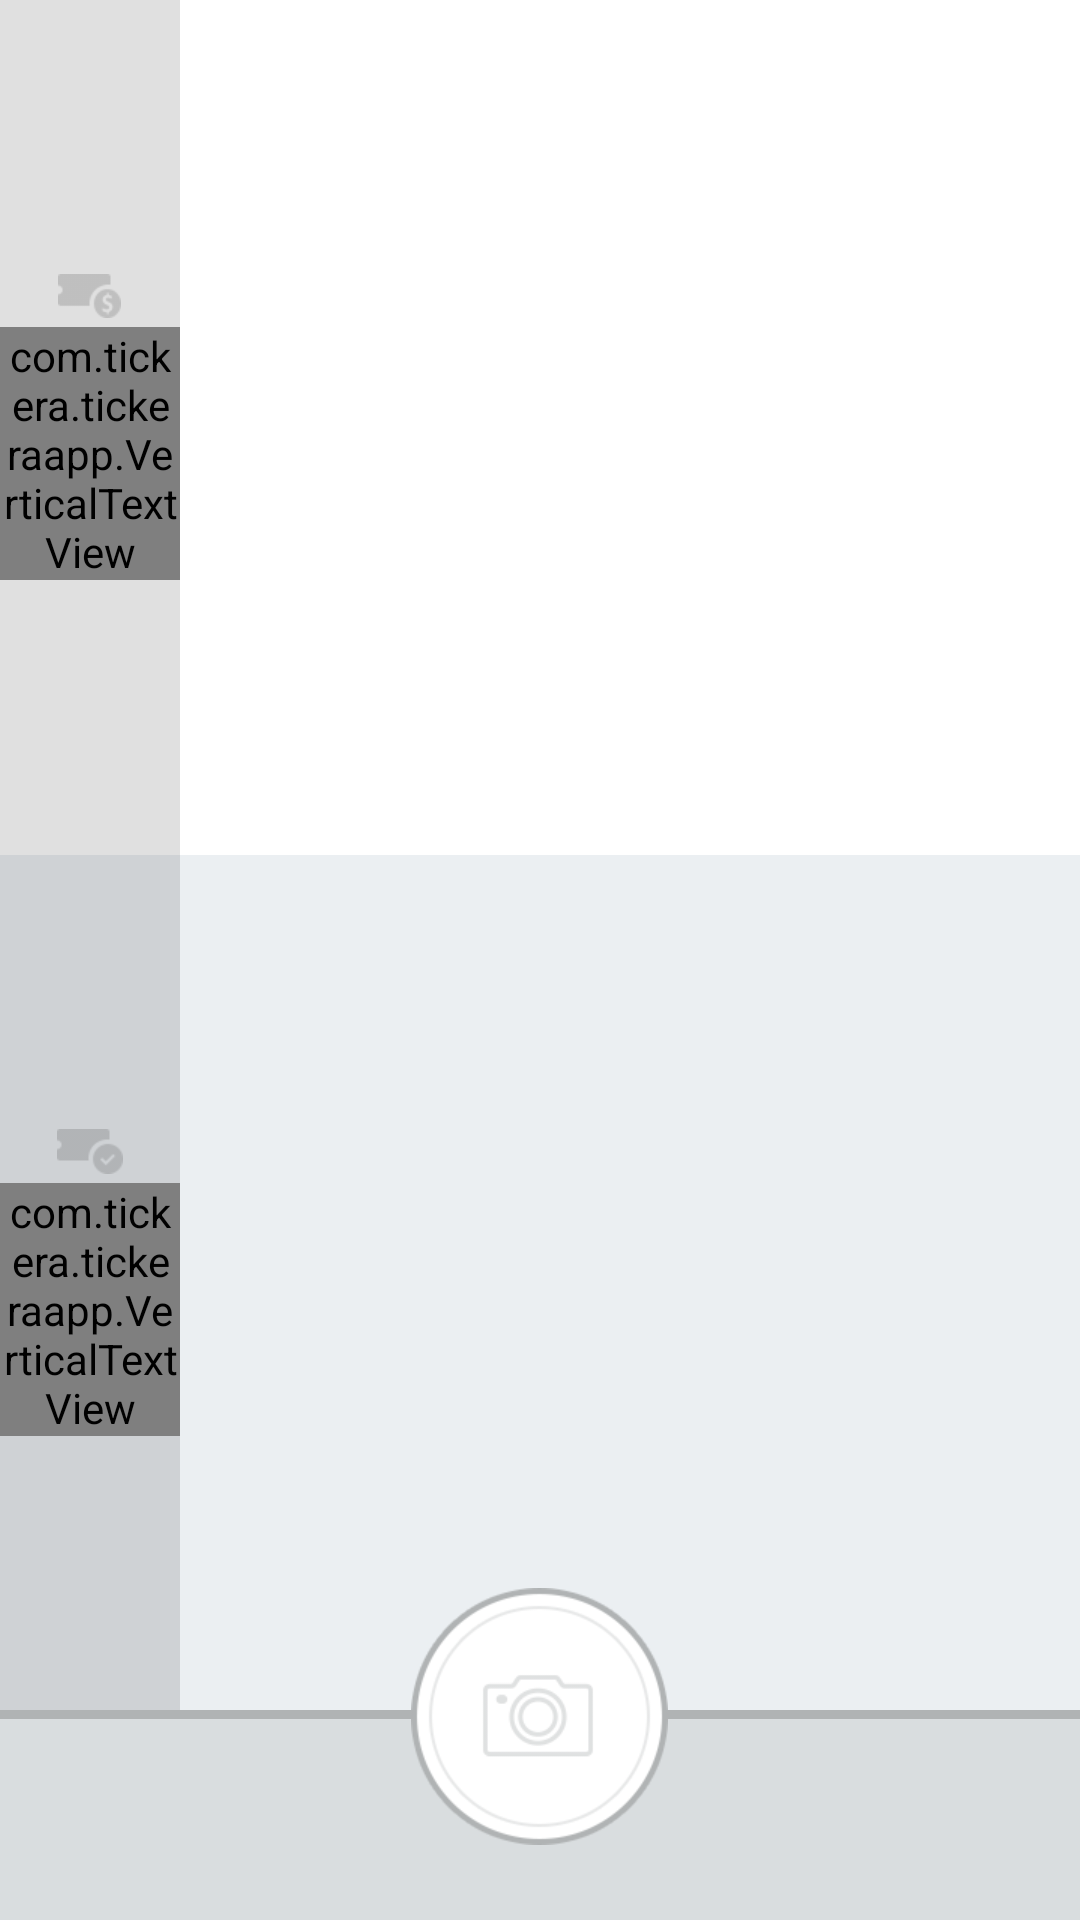

Icon bounding boxes for this 1080×1920 phone screenshot, format (left=x1, top=y1, right=x2, bottom=y2):
camera: (left=432, top=1609, right=647, bottom=1824)
checked in tickets: (left=57, top=1129, right=123, bottom=1174)
sold tickets: (left=58, top=274, right=121, bottom=318)
